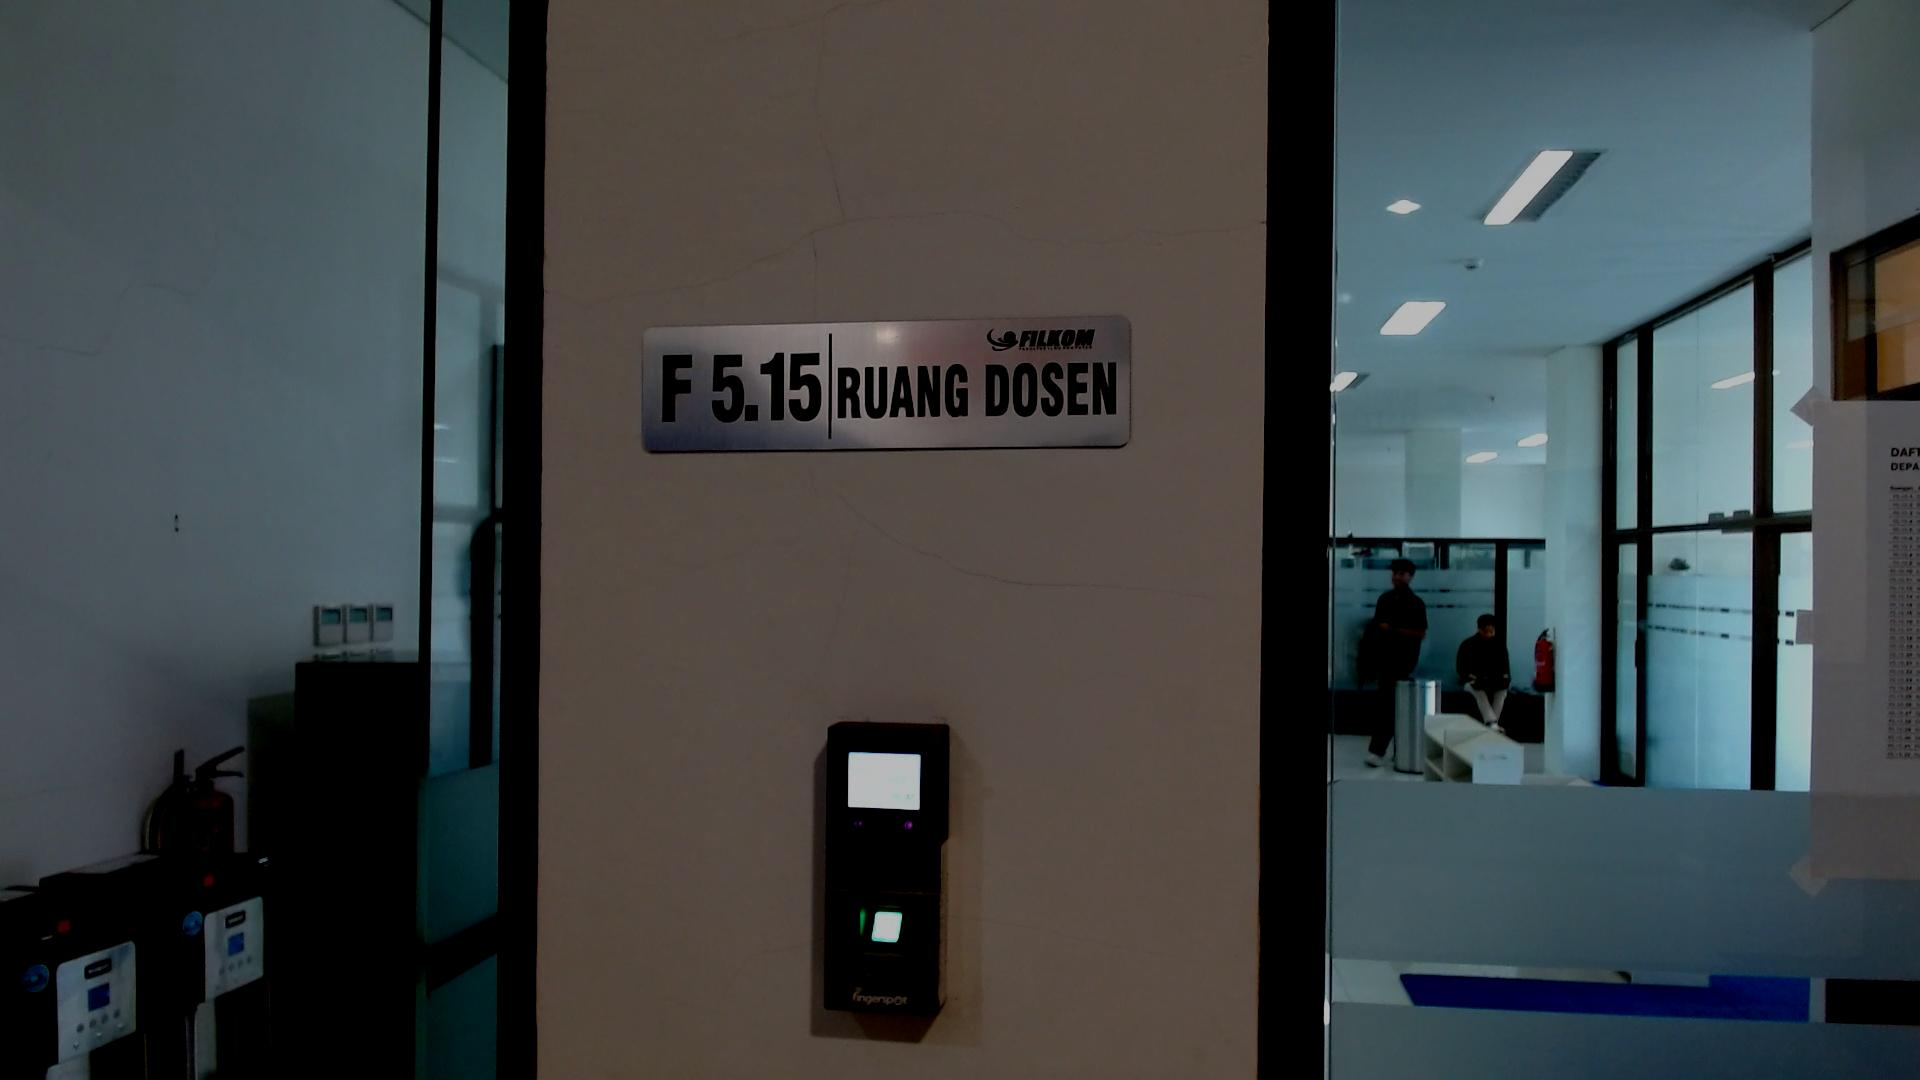plate: (641, 315, 1130, 452)
